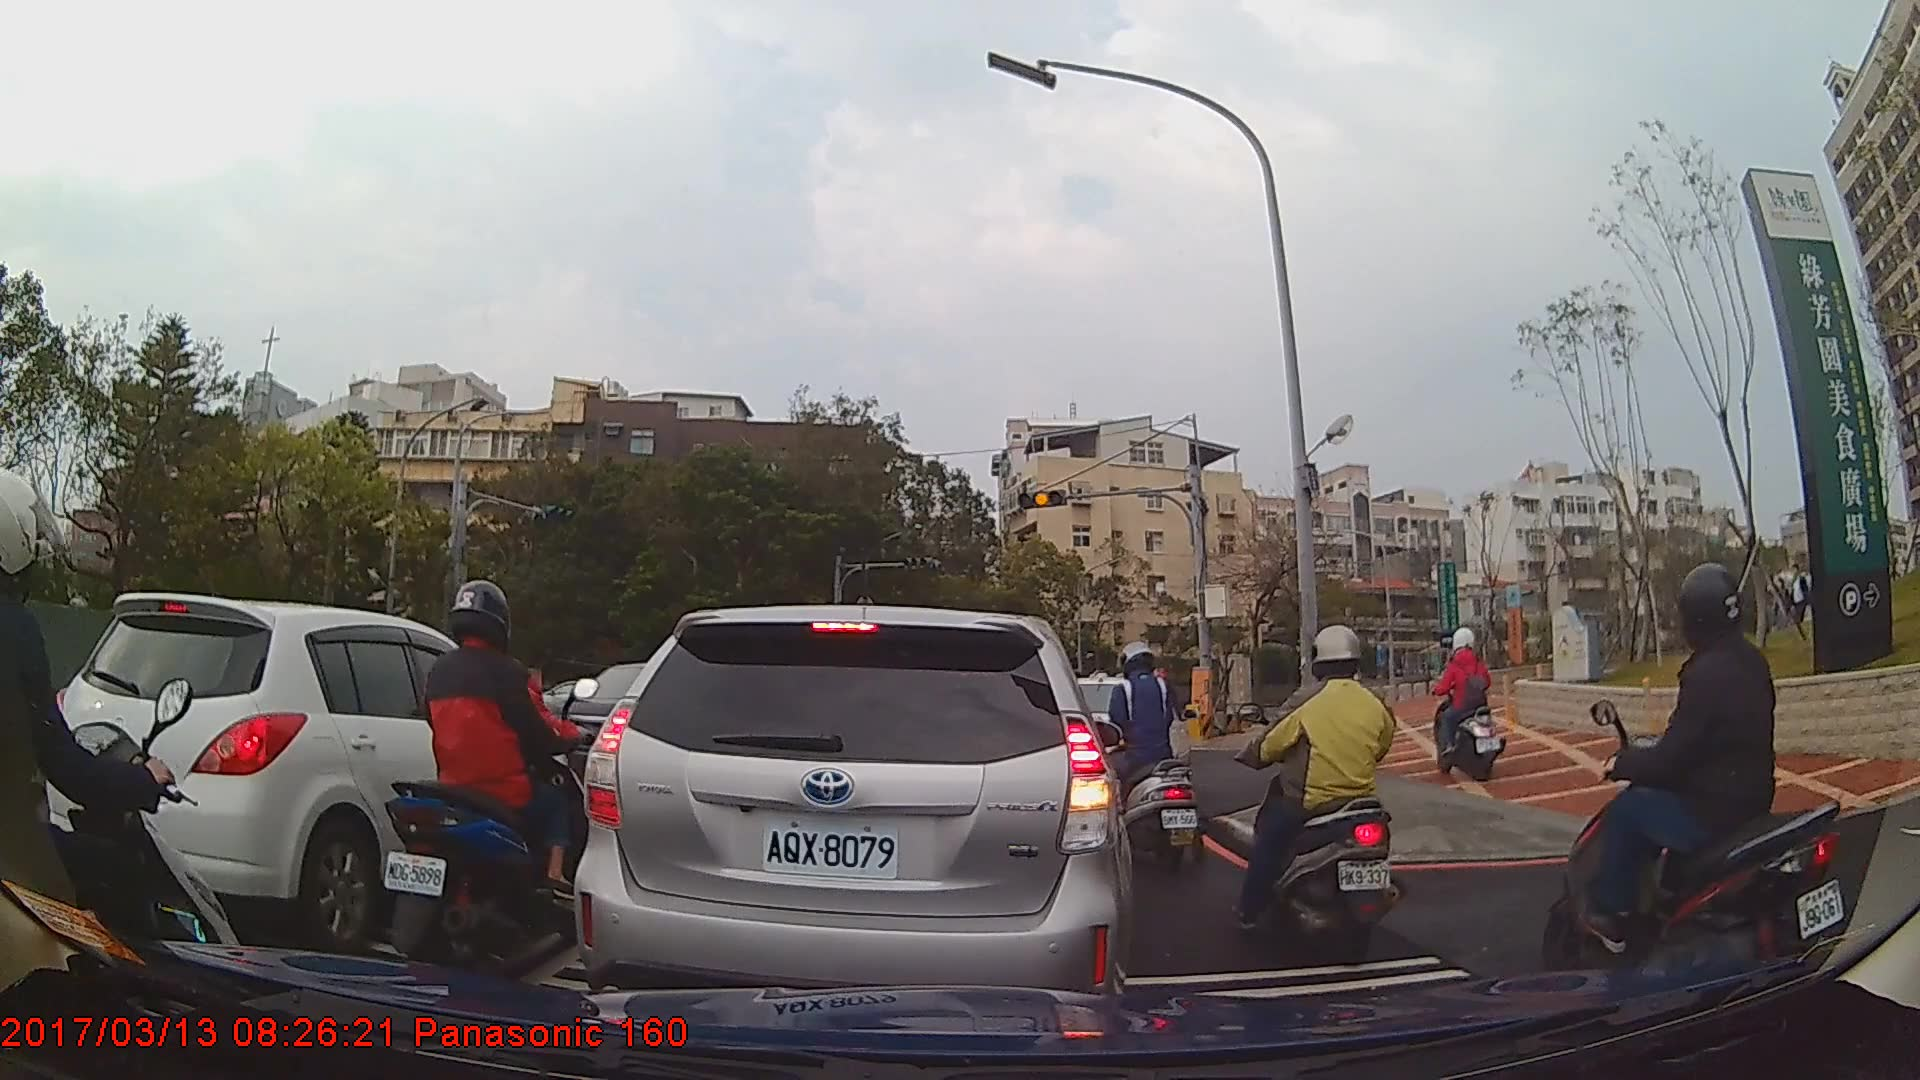pedestrian: (1777, 554, 1820, 626)
rider: (1, 470, 250, 1080), (1556, 560, 1858, 1017), (384, 574, 603, 981), (1231, 624, 1410, 952), (1098, 641, 1206, 865), (1429, 628, 1507, 782)
vehicle: (572, 603, 1134, 1028), (45, 591, 579, 956)
